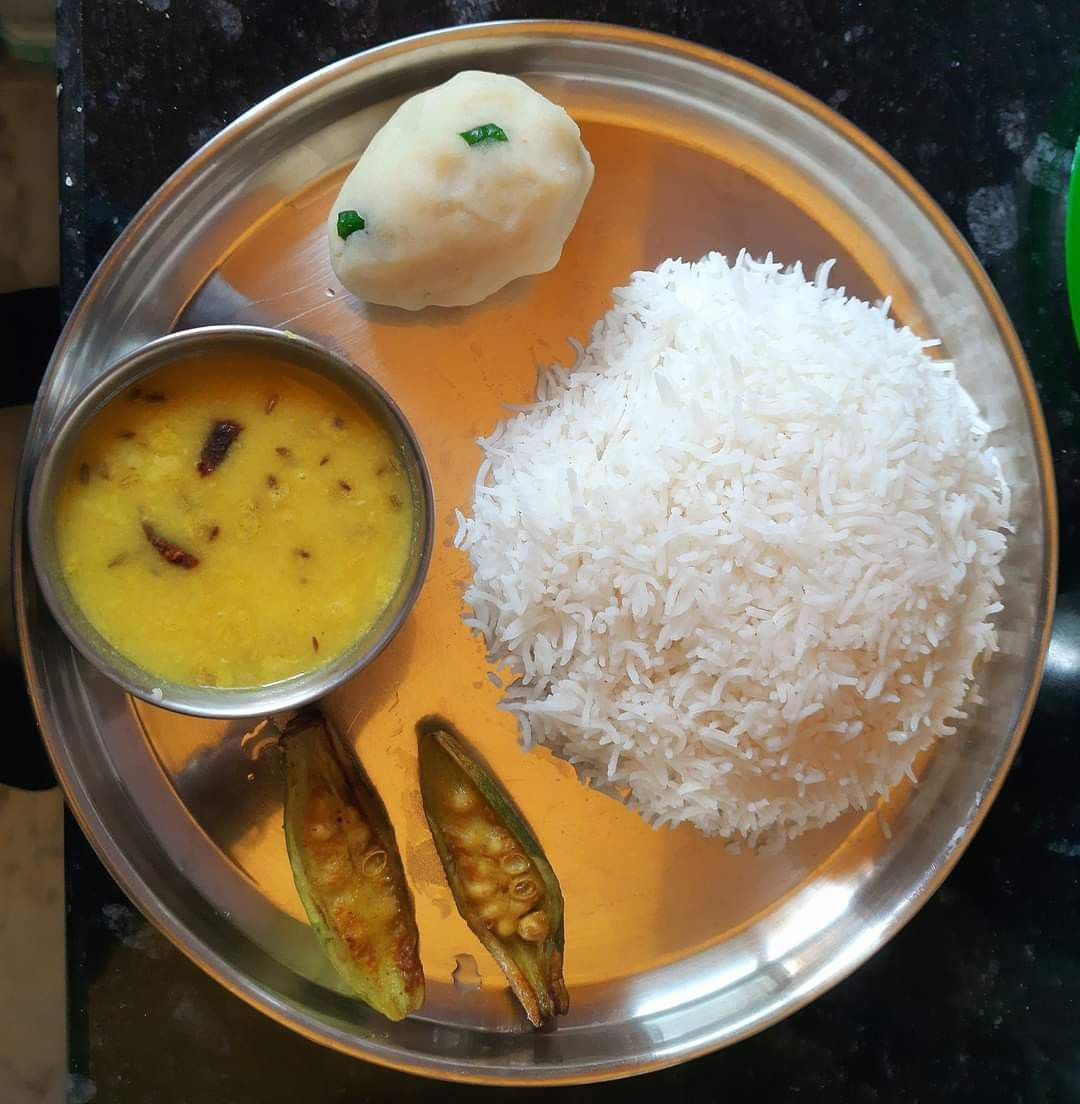bhat: (468, 255, 1003, 822)
dal: (43, 363, 400, 678)
sabji: (278, 713, 558, 1015), (327, 76, 587, 305)
